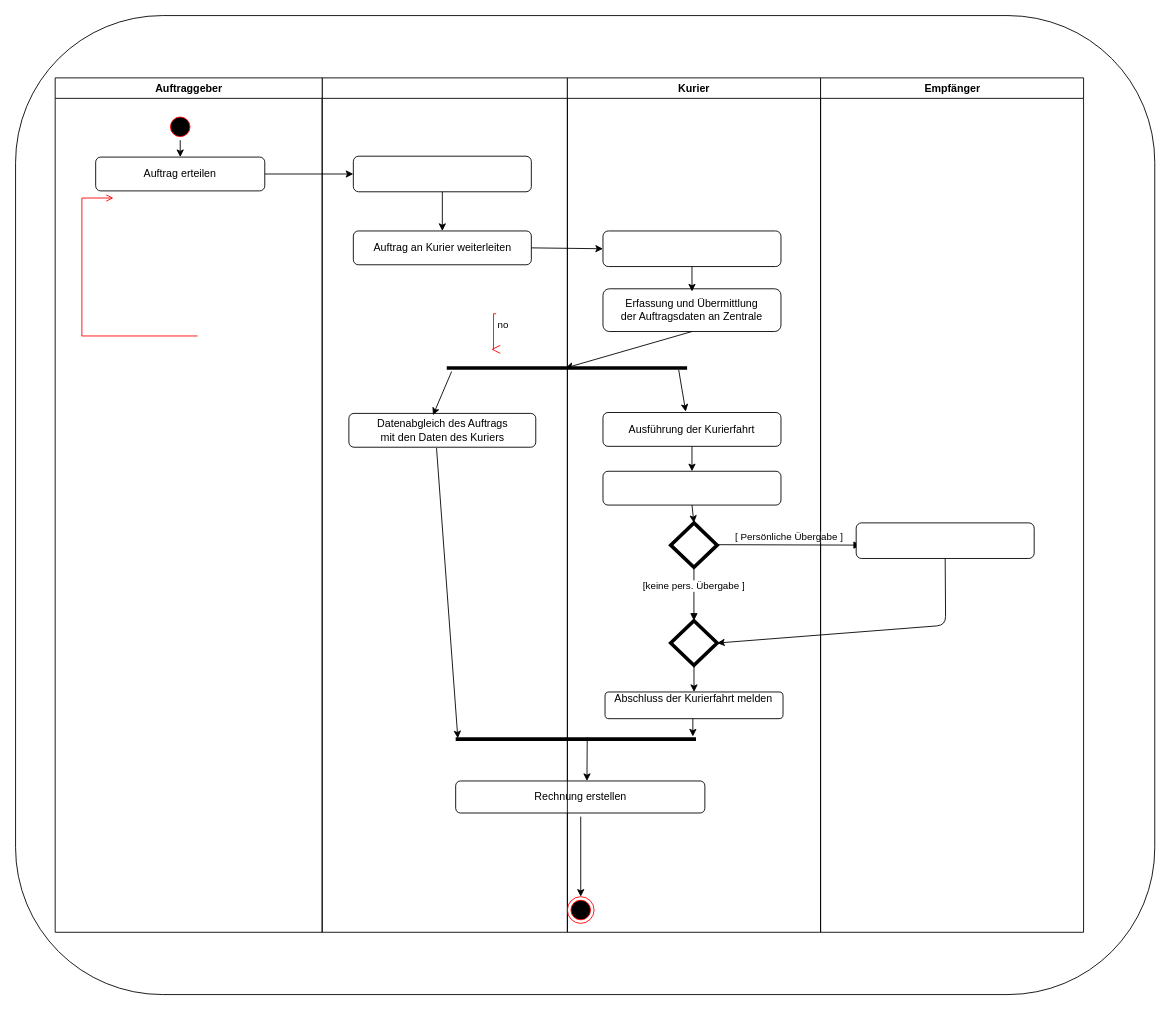
The diagram is 1170 pixels wide and 1010 high, and some of its shapes have lost their labels. Here are the shapes that lost their labels. From the top down, the box of each, then its label:
(352, 155, 531, 192): Auftragsdaten erfassen
(602, 230, 781, 267): Abolung der Sendung
(321, 77, 567, 932): Zentrale
(602, 470, 781, 505): Auslieferung der Sendung
(855, 522, 1034, 558): Empfang quittieren
